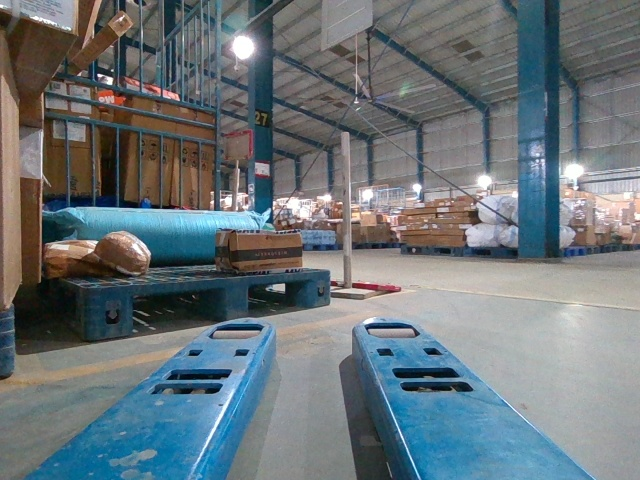block: (84, 284, 134, 342), (218, 276, 249, 319), (306, 271, 330, 306)
front: (83, 270, 331, 341)
hole pallet: (131, 289, 221, 334), (248, 280, 307, 314)
